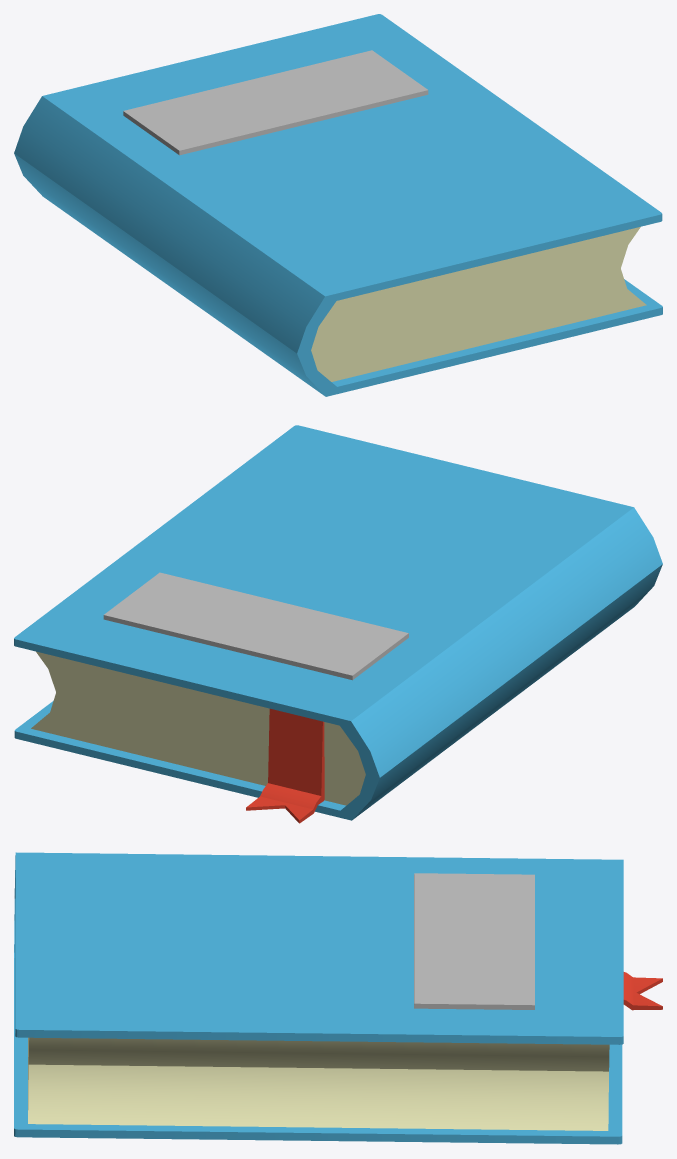
The model's file is lowpolyBook_2.fbx.
The picture shows the model from 3 angles, top to bottom: view 1: azimuth 30°, elevation 25°; view 2: azimuth 150°, elevation 25°; view 3: azimuth 270°, elevation 25°; orthographic projection. The views are drawn at different scales.
Visible parts, largest first — view 1: bookmark.001; view 2: bookmark.001; view 3: bookmark.001.
Part boxes in pixels (bbox=[...]): bookmark.001: bbox=[14, 14, 662, 396]; bookmark.001: bbox=[14, 425, 662, 823]; bookmark.001: bbox=[14, 852, 662, 1144].
Size of the model in its own units: 22.44 by 6.25 by 32.01.
